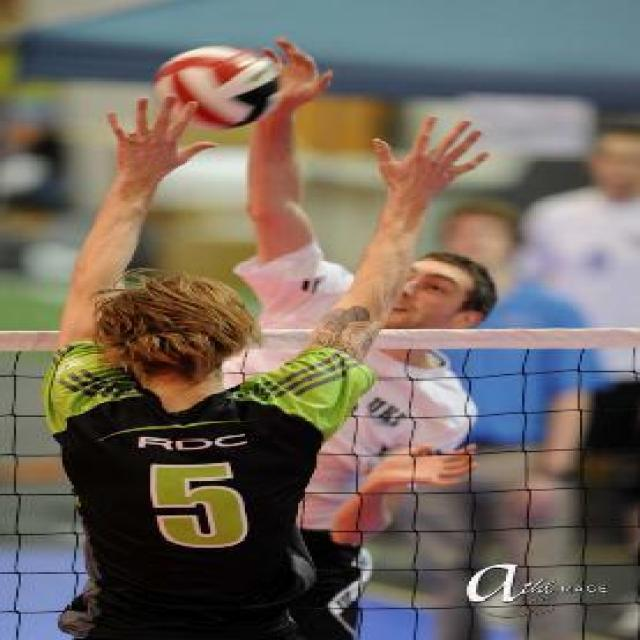volleyball: (152, 45, 283, 130)
